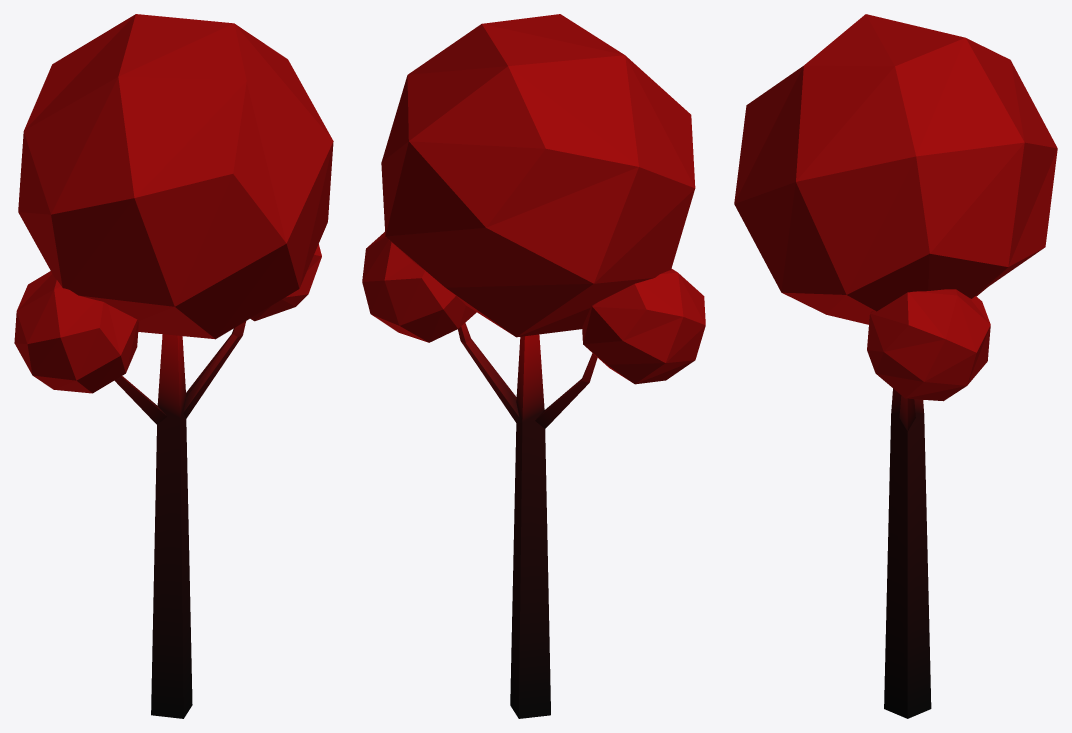
The model's file is SM_chêne_vertexcolor.FBX.
3 renders of one model, left to right at view 1: azimuth 30°, elevation 25°; view 2: azimuth 150°, elevation 25°; view 3: azimuth 270°, elevation 25°, orthographic.
Parts seen in each view (by area): view 1: tronc; view 2: tronc; view 3: tronc.
Part boxes in pixels (left/top/right/bottom): tronc: left=14, top=14, right=333, bottom=718; tronc: left=362, top=14, right=705, bottom=718; tronc: left=734, top=14, right=1057, bottom=718.
Size of the model in its own units: 215 by 446 by 195.
